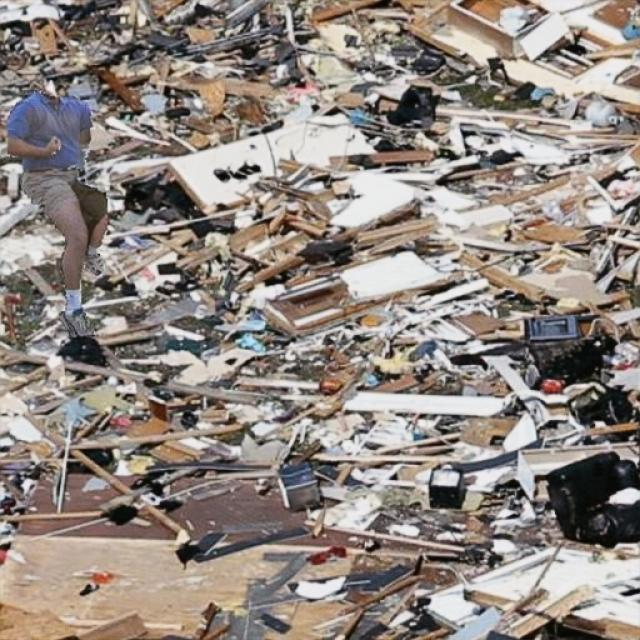Person in Rubble: (8, 91, 106, 338)
